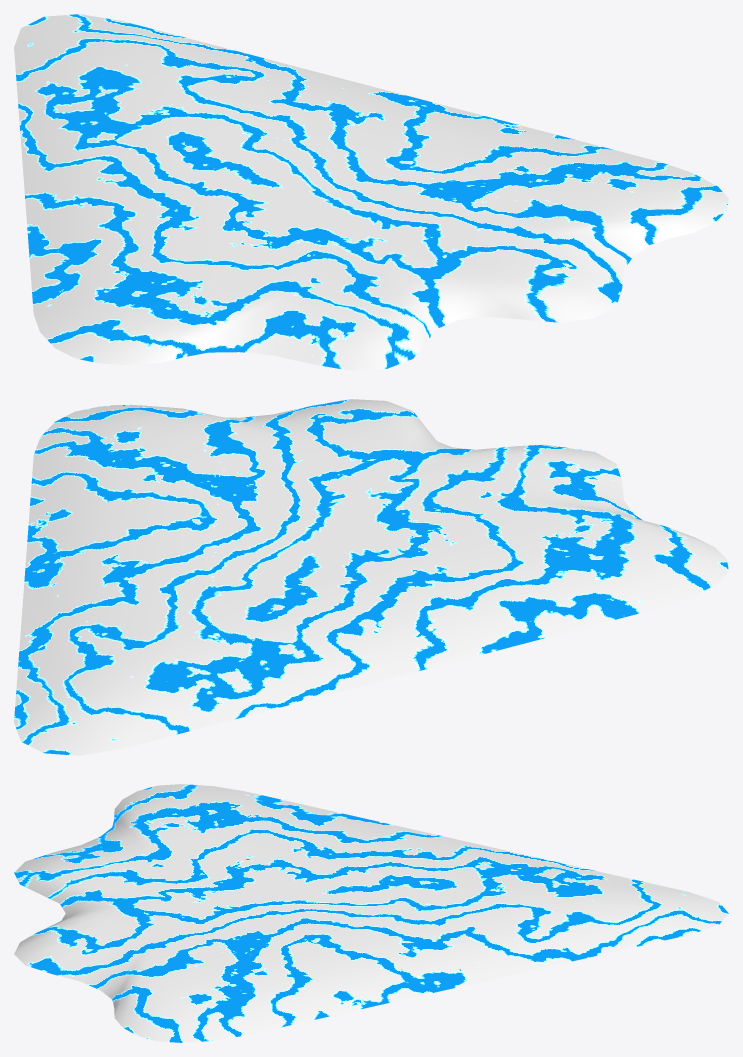
Rendered from SupremeFive.fbx.
The picture shows the model from 3 angles, top to bottom: view 1: azimuth 30°, elevation 25°; view 2: azimuth 150°, elevation 25°; view 3: azimuth 270°, elevation 25°; orthographic projection. The views are drawn at different scales.
Visible parts, largest first — view 1: supreme_5; view 2: supreme_5; view 3: supreme_5.
Boxes of the visible parts, x1,y1,x2,y2 form: supreme_5: [14, 14, 728, 370]; supreme_5: [14, 399, 728, 755]; supreme_5: [14, 784, 728, 1042].
Bounding box in the file's own units: 566 × 661 × 14.45.
